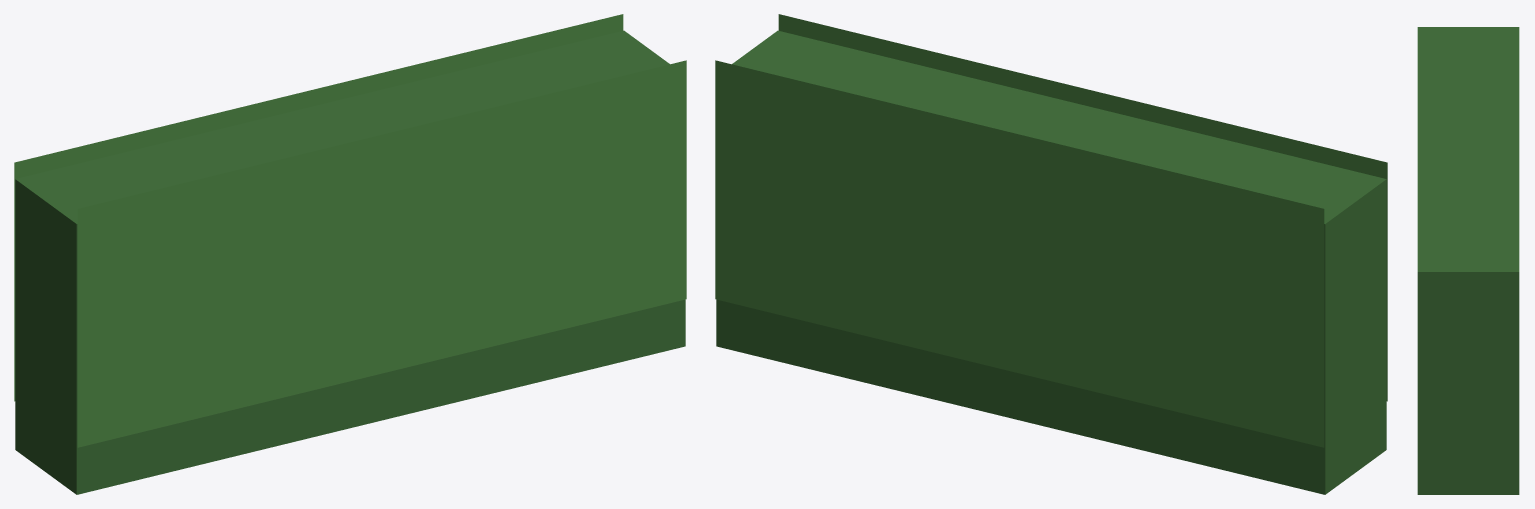
Rendered from hedge.glb.
3 renders of one model, left to right at view 1: azimuth 30°, elevation 25°; view 2: azimuth 150°, elevation 25°; view 3: azimuth 270°, elevation 25°, orthographic. The views are drawn at different scales.
Parts seen in each view (by area): view 1: hedge; view 2: hedge; view 3: hedge.
Boxes of the visible parts, left/top/right/bottom form: hedge: left=14, top=14, right=686, bottom=494; hedge: left=715, top=14, right=1387, bottom=494; hedge: left=1417, top=27, right=1519, bottom=494.
Bounding box in the file's own units: 4 × 1.8 × 0.72.
